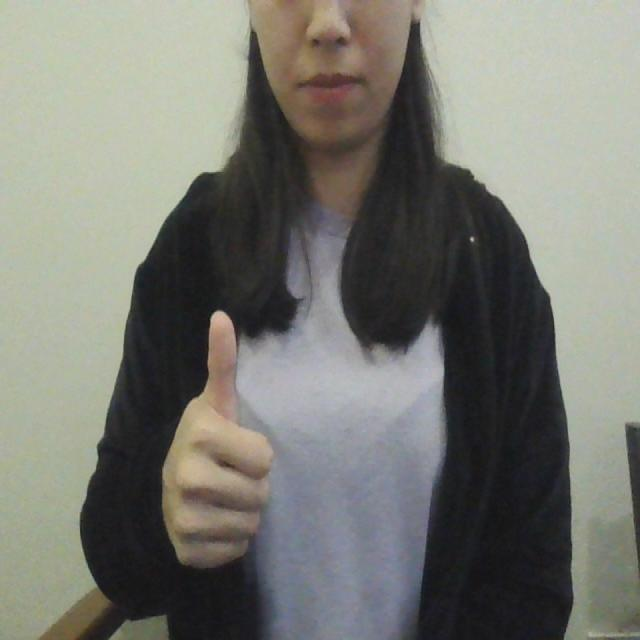Tamam: (155, 305, 291, 591)
